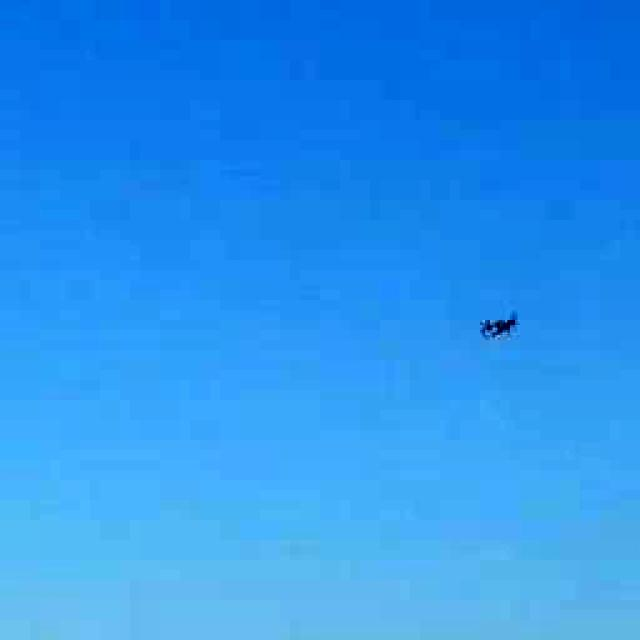bird: (444, 289, 551, 356)
